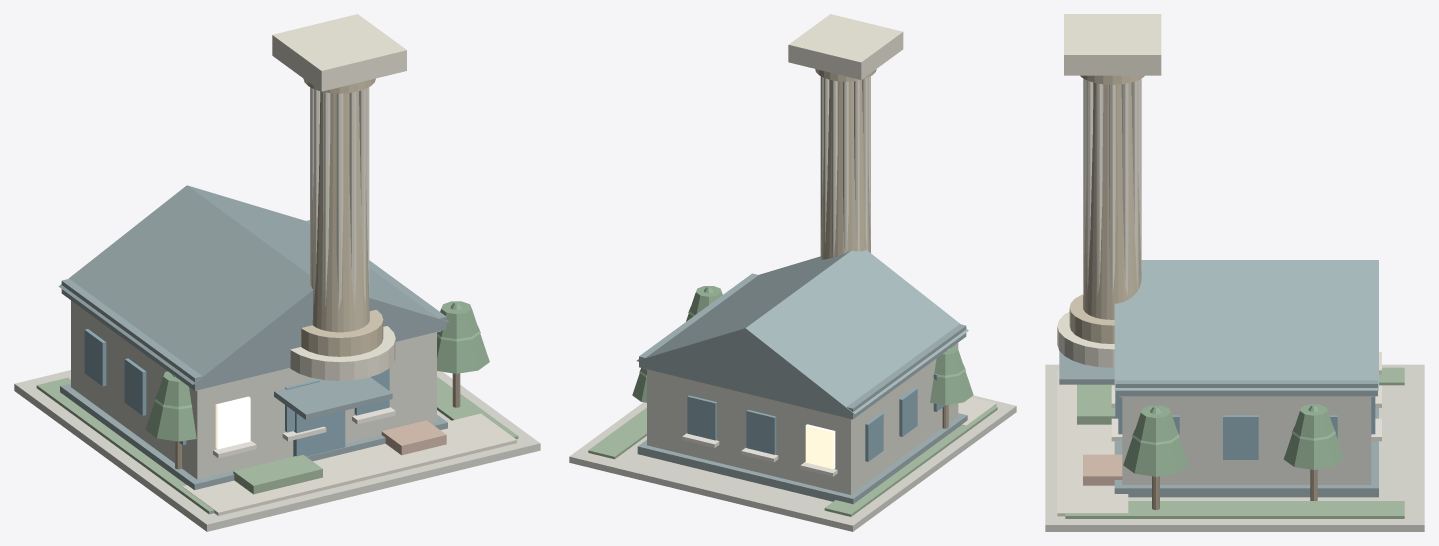
The model's file is remaster_house_14.glb.
The picture shows the model from 3 angles, left to right: view 1: azimuth 30°, elevation 25°; view 2: azimuth 150°, elevation 25°; view 3: azimuth 270°, elevation 25°; orthographic projection. The views are drawn at different scales.
Visible parts, largest first — view 1: remaster_house_14 roof, remaster_house_14 stone, Tapered shaft.002, remaster_house_14 cream, Capital.002, remaster_house_14 green, remaster_house_14 leaf, remaster_house_14 glass, Column foot.002, Column ring.002, remaster_house_14 warm, remaster_house_14 brick (+8 smaller); view 2: remaster_house_14 roof, remaster_house_14 stone, Capital.002, Tapered shaft.002, remaster_house_14 glass, remaster_house_14 green, remaster_house_14 leaf, remaster_house_14 warm, Fluted shaft detail.028, Fluted shaft detail.027, Fluted shaft detail.029, remaster_house_14 white (+4 smaller); view 3: remaster_house_14 roof, remaster_house_14 stone, remaster_house_14 green, Tapered shaft.002, remaster_house_14 leaf, Capital.002, remaster_house_14 cream, remaster_house_14 glass, Column foot.002, Fluted shaft detail.024, Column ring.002, Fluted shaft detail.035 (+9 smaller).
Part boxes in pixels (<box>): remaster_house_14 roof: <box>58,185,449,490</box>; remaster_house_14 stone: <box>14,300,540,531</box>; Tapered shaft.002: <box>310,91,369,332</box>; remaster_house_14 cream: <box>182,413,516,515</box>; Capital.002: <box>272,14,406,91</box>; remaster_house_14 green: <box>36,377,518,514</box>; remaster_house_14 leaf: <box>145,301,489,441</box>; remaster_house_14 glass: <box>84,329,389,456</box>; Column foot.002: <box>290,326,395,380</box>; Column ring.002: <box>301,309,383,356</box>; remaster_house_14 warm: <box>215,396,250,449</box>; remaster_house_14 brick: <box>381,420,446,455</box>; remaster_house_14 roof: <box>636,250,968,504</box>; remaster_house_14 stone: <box>569,343,1016,531</box>; Capital.002: <box>788,14,903,79</box>; Tapered shaft.002: <box>820,80,870,259</box>; remaster_house_14 glass: <box>687,373,944,461</box>; remaster_house_14 green: <box>588,406,997,516</box>; remaster_house_14 leaf: <box>632,286,973,405</box>; remaster_house_14 warm: <box>805,424,835,469</box>; Fluted shaft detail.028: <box>843,81,848,253</box>; Fluted shaft detail.027: <box>832,80,837,257</box>; Fluted shaft detail.029: <box>854,80,859,251</box>; remaster_house_14 white: <box>682,433,837,476</box>; remaster_house_14 roof: <box>1059,260,1378,497</box>; remaster_house_14 stone: <box>1045,364,1424,531</box>; remaster_house_14 green: <box>1065,367,1404,518</box>; Tapered shaft.002: <box>1083,82,1141,319</box>; remaster_house_14 leaf: <box>1123,404,1343,476</box>; Capital.002: <box>1064,14,1161,75</box>; remaster_house_14 cream: <box>1057,369,1128,516</box>; remaster_house_14 glass: <box>1115,391,1375,459</box>; Column foot.002: <box>1057,311,1114,367</box>; Fluted shaft detail.024: <box>1109,84,1115,298</box>; Column ring.002: <box>1069,294,1114,343</box>; Fluted shaft detail.035: <box>1096,83,1103,295</box>.
Bounding box in the file's own units: 9.64 × 11.66 × 9.6.
